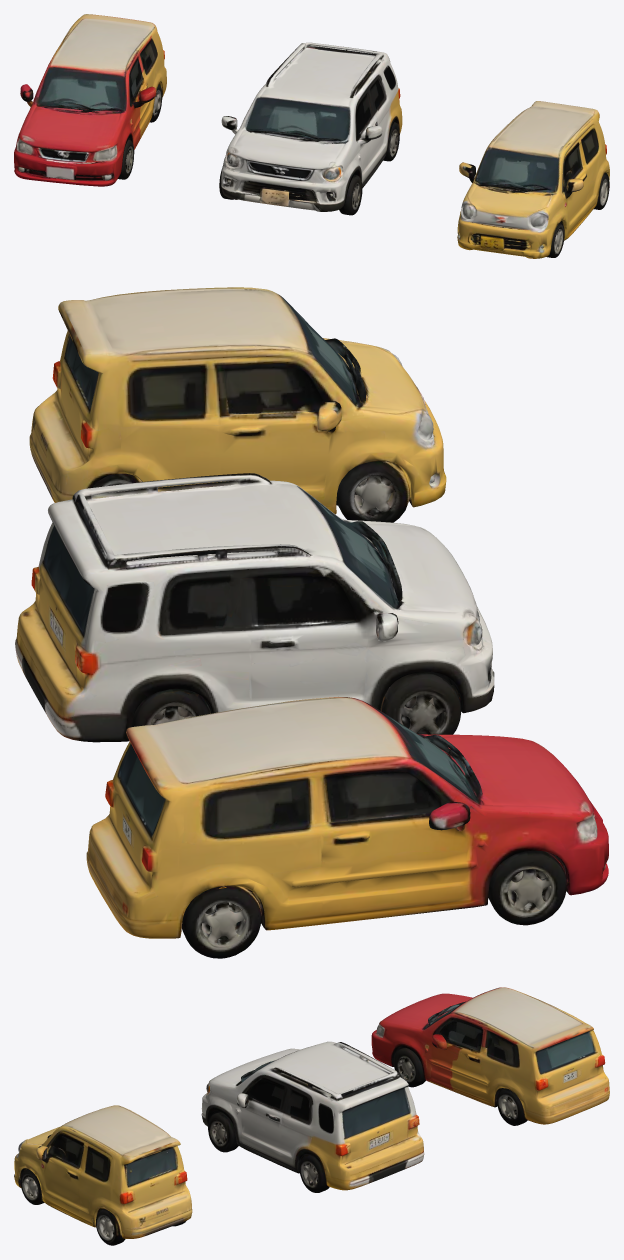
File: cars-1.glb
3 views of the same model, one above another, from view 1: azimuth 30°, elevation 25°; view 2: azimuth 150°, elevation 25°; view 3: azimuth 270°, elevation 25° (orthographic). The views are drawn at different scales.
Visible parts, largest first — view 1: node_0; view 2: node_0; view 3: node_0.
Boxes of the visible parts, bbox=[...] form: node_0: bbox=[14, 14, 609, 258]; node_0: bbox=[15, 287, 608, 958]; node_0: bbox=[14, 987, 609, 1245].
Bounding box in the file's own units: 0.9431 × 0.2024 × 1.11.
1 material, 1 textured.
